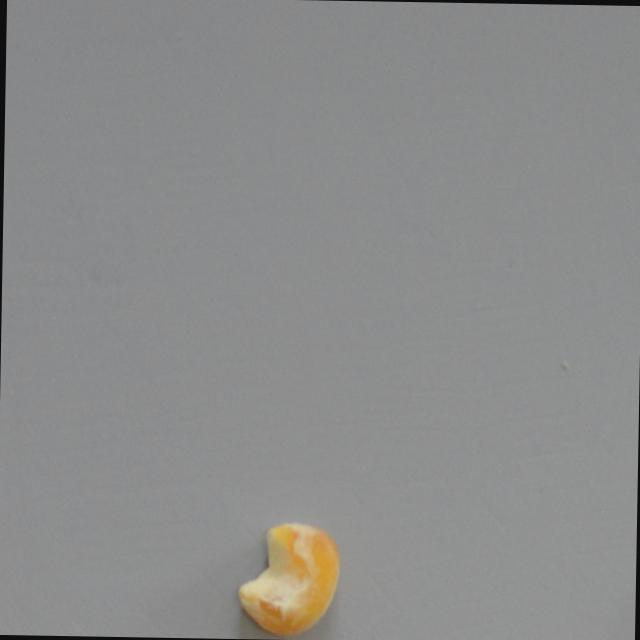pelicula: (236, 522, 340, 638)
